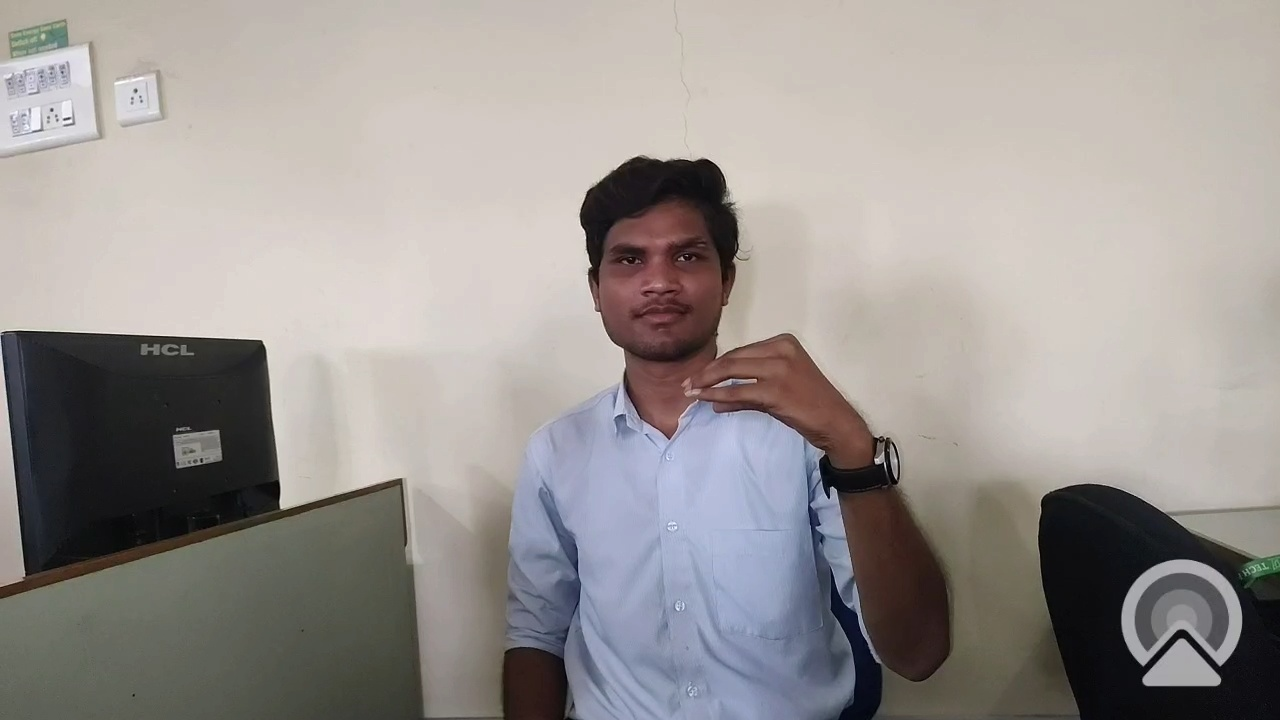No: (673, 328, 891, 466)
